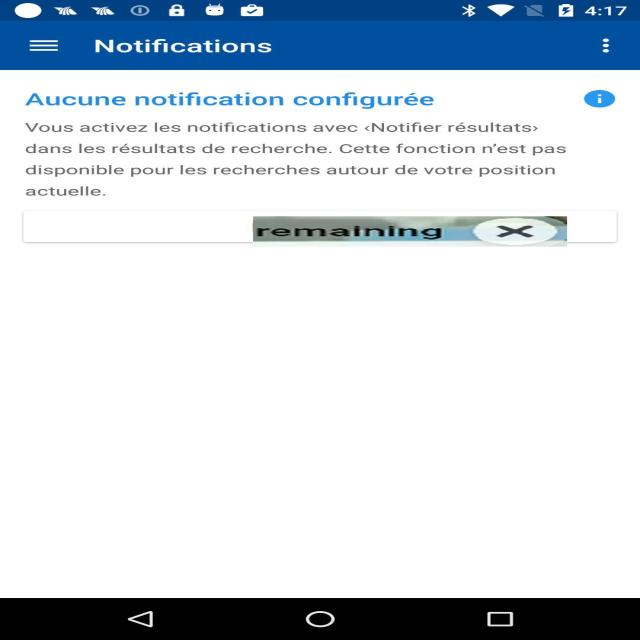misdirection: (253, 216, 567, 247)
